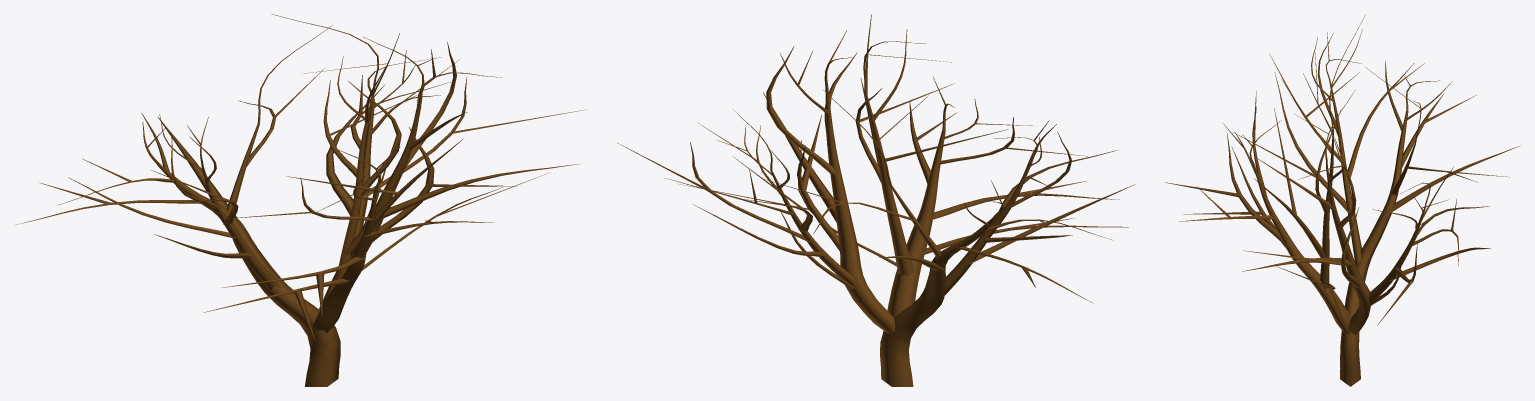
The model's file is Tree_S.fbx.
The picture shows the model from 3 angles, left to right: view 1: azimuth 30°, elevation 25°; view 2: azimuth 150°, elevation 25°; view 3: azimuth 270°, elevation 25°; orthographic projection. The views are drawn at different scales.
Visible parts, largest first — view 1: Tree_S_Baked; view 2: Tree_S_Baked; view 3: Tree_S_Baked.
Part boxes in pixels (box(x1,y1,x2,y2)): Tree_S_Baked: box(14, 14, 586, 386); Tree_S_Baked: box(617, 14, 1134, 386); Tree_S_Baked: box(1164, 14, 1520, 386).
Size of the model in its own units: 745 by 494 by 462.
